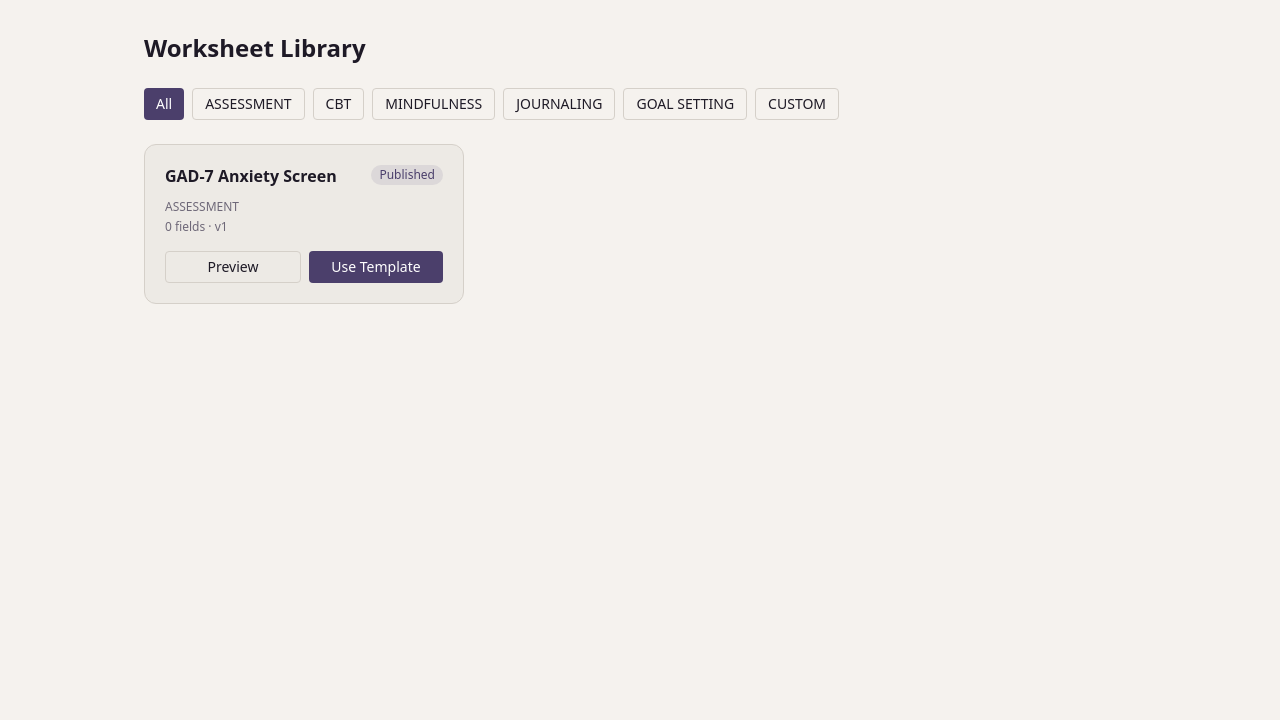
Test: Worksheet library page › preview dialog shows "no fields" message for template with empty fields
Check: the heading "GAD-7 Anxiety Screen" is shown, box 165,165 -> 337,187
Click the button "Preview": (233, 267) 165,251 -> 301,283
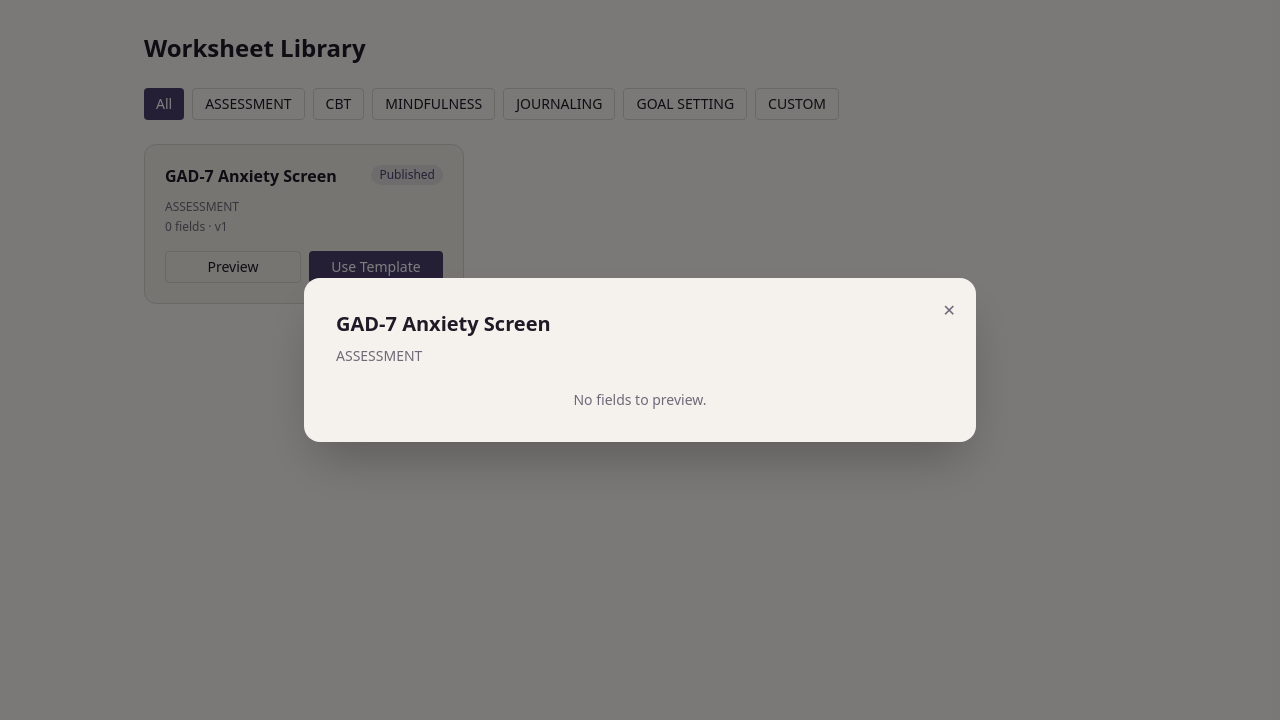
Check: the dialog shows "No fields to preview", box 574,390 -> 707,409
